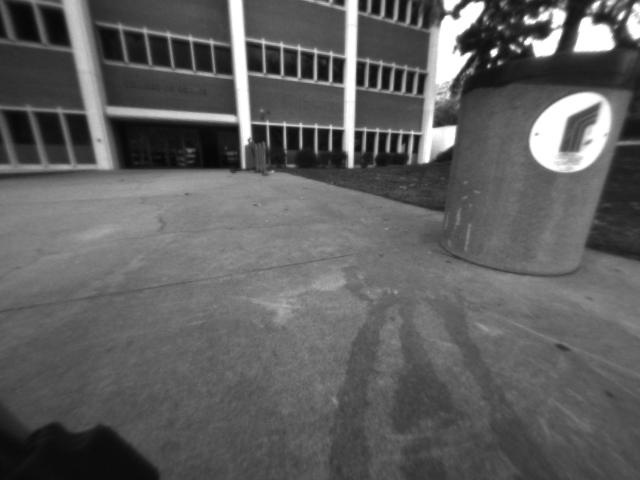trashcan: (441, 35, 640, 297)
